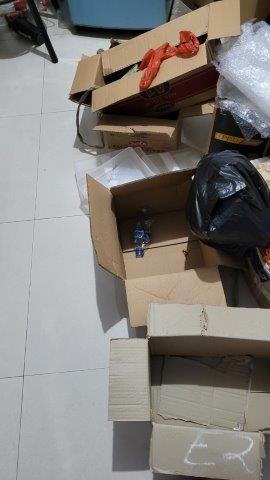botolplastik: (130, 205, 156, 257)
kardus: (112, 304, 270, 477), (81, 167, 245, 302), (70, 1, 243, 120)
